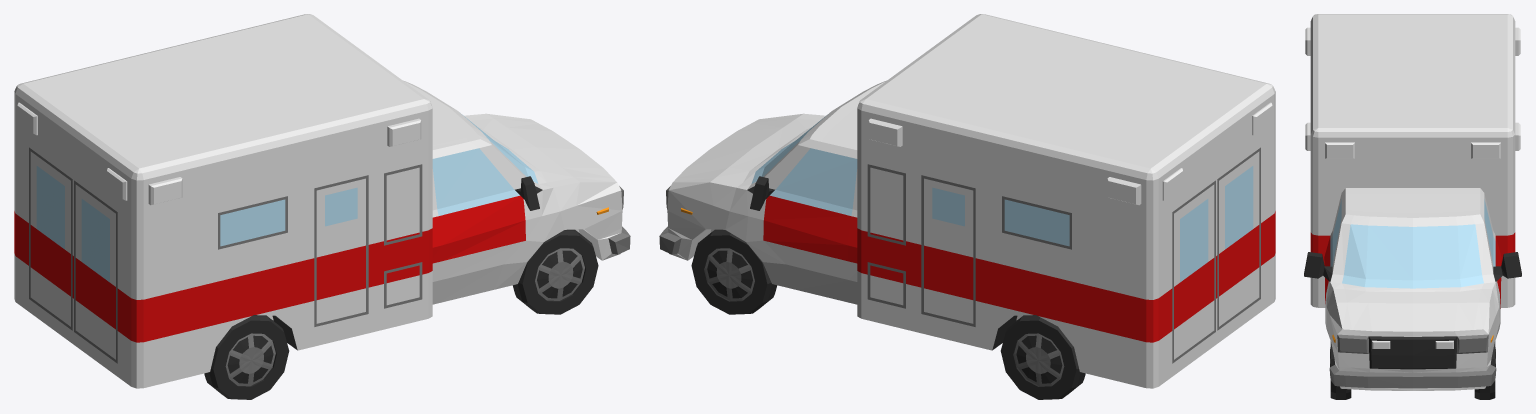
The model's file is Ambulance.glb.
The picture shows the model from 3 angles, left to right: view 1: azimuth 30°, elevation 25°; view 2: azimuth 150°, elevation 25°; view 3: azimuth 270°, elevation 25°; orthographic projection. The views are drawn at different scales.
Parts seen in each view (by area): view 1: Ambulance; view 2: Ambulance; view 3: Ambulance.
Part boxes in pixels (left/top/right/bottom): Ambulance: left=14, top=14, right=630, bottom=399; Ambulance: left=659, top=14, right=1275, bottom=399; Ambulance: left=1304, top=14, right=1521, bottom=399.
Bounding box in the file's own units: 5.59 × 2.66 × 2.49.
1 material, 1 textured.
